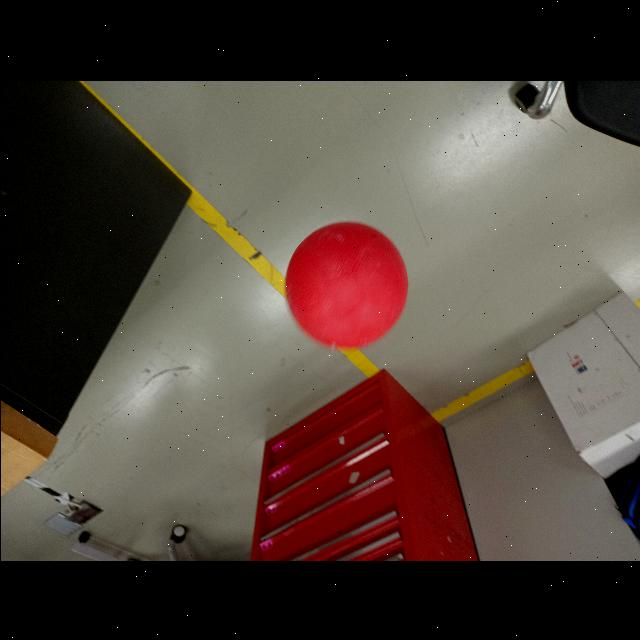R: (282, 220, 408, 348)
